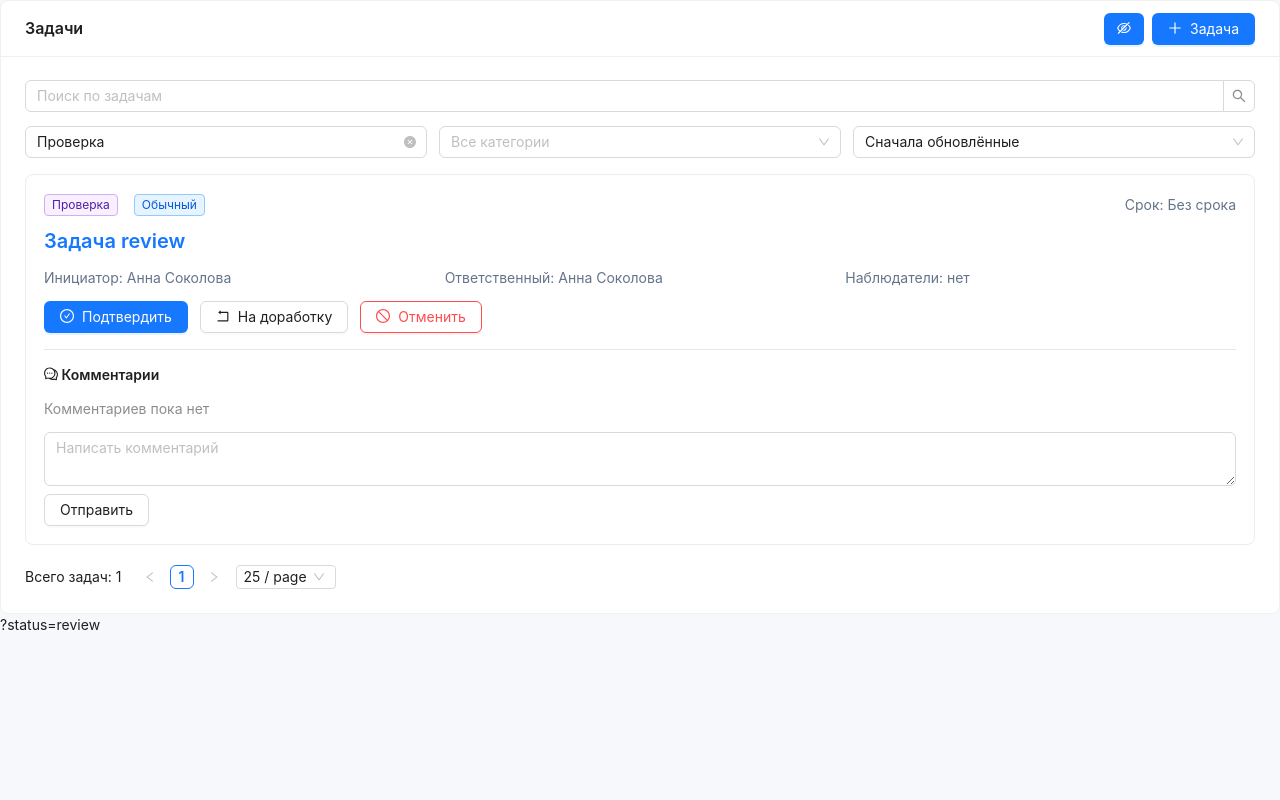
Test: project task list requests › reloads the filtered list and total after confirming completion
Expected: the link "Задача review" is shown, [44,229,185,253]
Click the button "Подтвердить" at (116, 317), box [44,301,188,333]
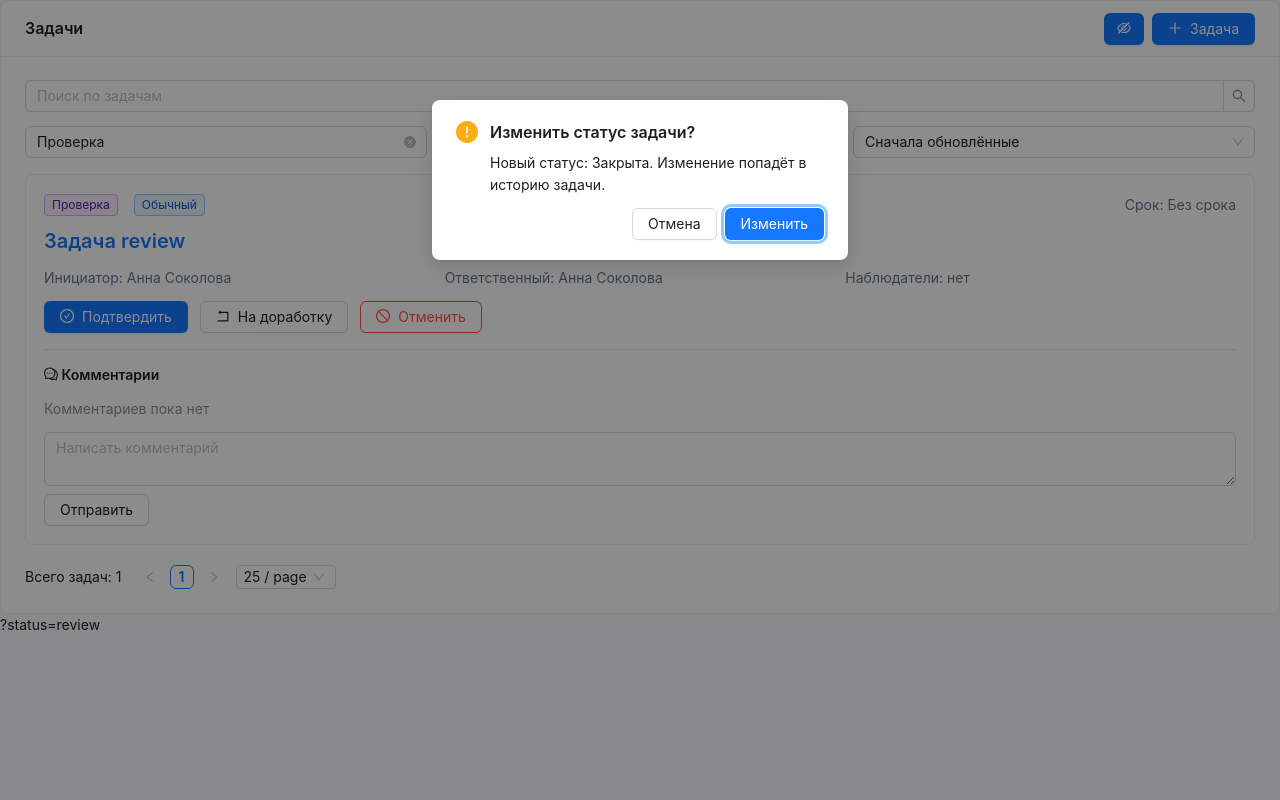
Click the button "Изменить" at (774, 224), box [724,208,824,240]
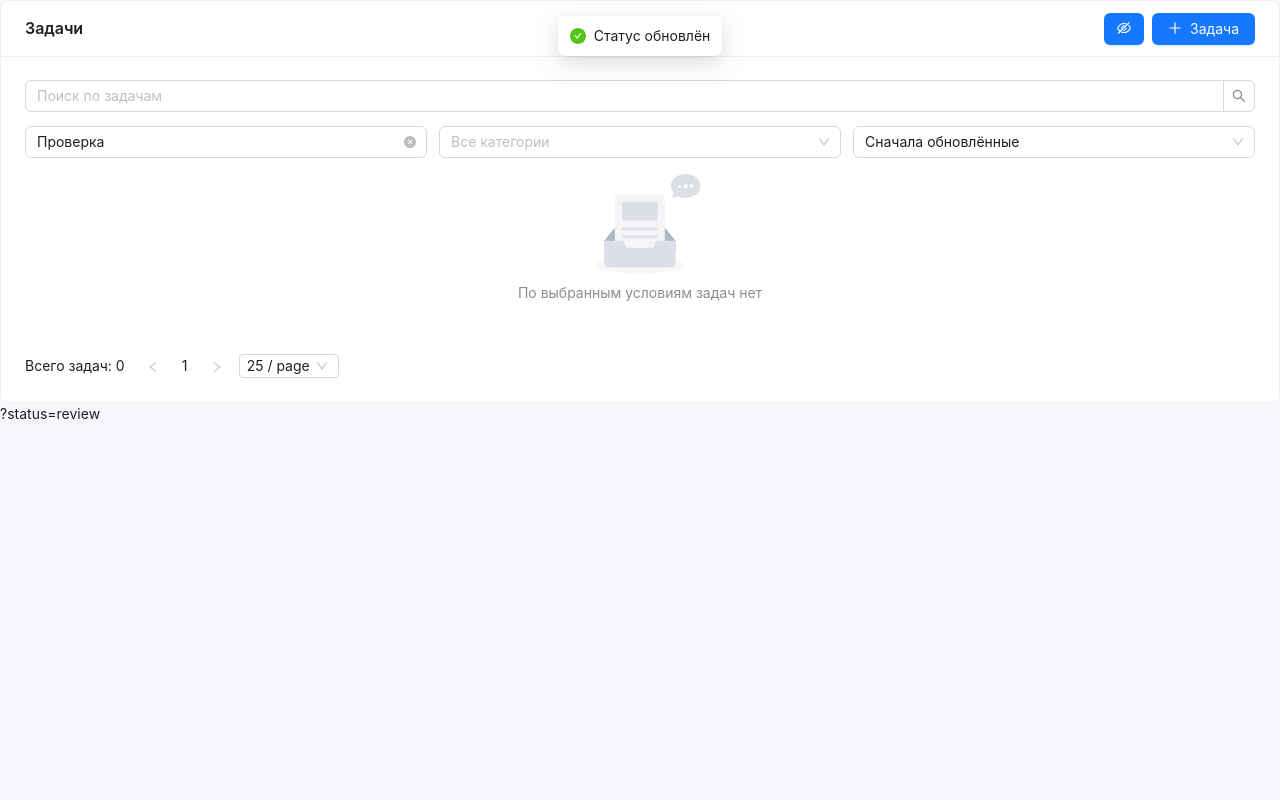
Expected: the text with test id "location" shows "status=review", [0,405,100,422]
Result: the list item "Всего задач: 0" is shown at [25,354,125,378]
Result: the link "Задача review" is gone
